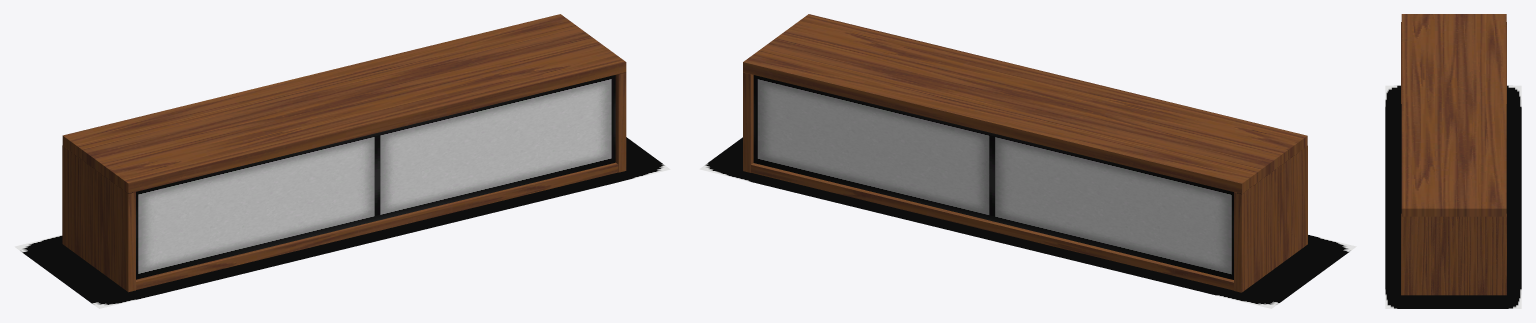
Rendered from jj_rixi_guizi01.FBX.
3 views of the same model, side by side, from view 1: azimuth 30°, elevation 25°; view 2: azimuth 150°, elevation 25°; view 3: azimuth 270°, elevation 25° (orthographic). The views are drawn at different scales.
Visible parts, largest first — view 1: jj_rixi_guizi01, shadow; view 2: jj_rixi_guizi01, shadow; view 3: jj_rixi_guizi01, shadow.
Part boxes in pixels (x1,y1,x2,y2): jj_rixi_guizi01: [62, 14, 626, 292]; shadow: [14, 137, 670, 308]; jj_rixi_guizi01: [743, 14, 1307, 292]; shadow: [699, 137, 1356, 308]; jj_rixi_guizi01: [1401, 14, 1506, 295]; shadow: [1385, 85, 1521, 308].
Size of the model in its own units: 130 by 24.16 by 33.6.
